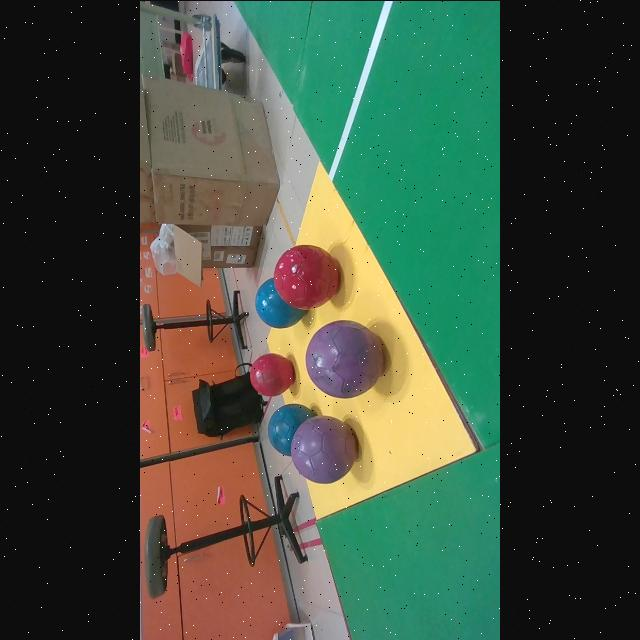B: (255, 277, 306, 327), (268, 403, 314, 455)
P: (306, 319, 384, 397), (291, 415, 357, 483)
R: (273, 243, 339, 309), (250, 353, 293, 396)
